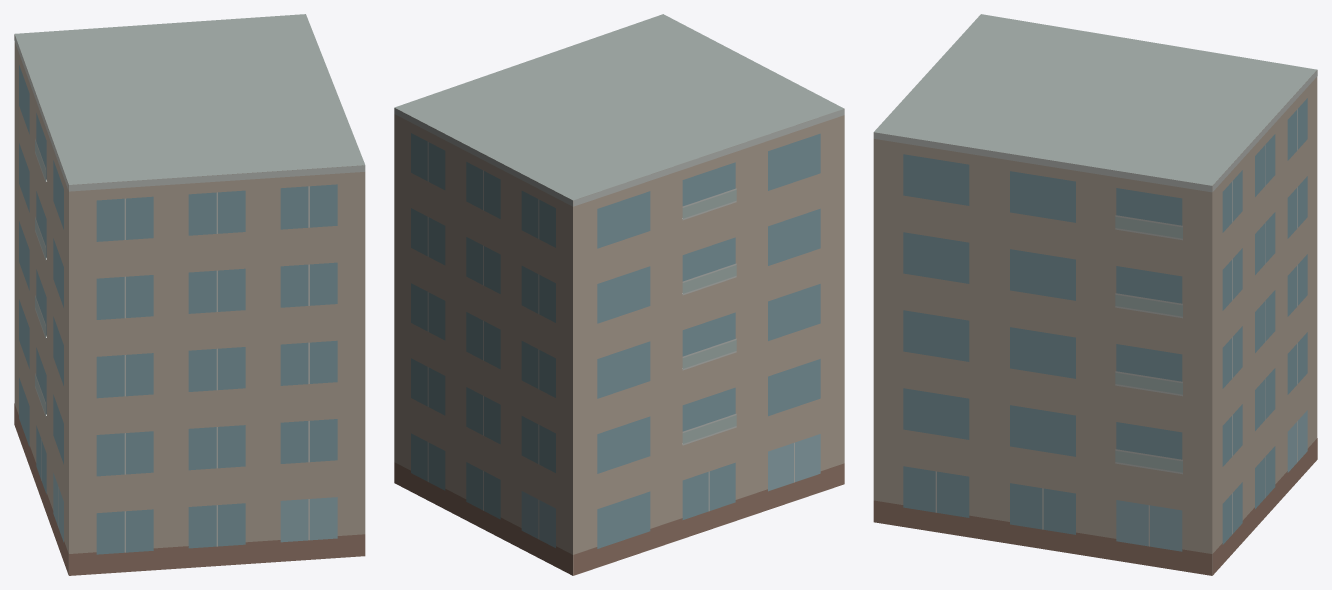
Rendered from survey-upis-32995031.glb.
3 renders of one model, left to right at view 1: azimuth 30°, elevation 25°; view 2: azimuth 150°, elevation 25°; view 3: azimuth 270°, elevation 25°, orthographic. The views are drawn at different scales.
Visible parts, largest first — view 1: survey-upis-32995031.tmp; view 2: survey-upis-32995031.tmp; view 3: survey-upis-32995031.tmp.
Boxes of the visible parts, x1=… form: survey-upis-32995031.tmp: x1=14, y1=14, x2=365, y2=575; survey-upis-32995031.tmp: x1=394, y1=14, x2=844, y2=575; survey-upis-32995031.tmp: x1=873, y1=14, x2=1317, y2=575.
Size of the model in its own units: 13.71 by 14.5 by 14.96.
